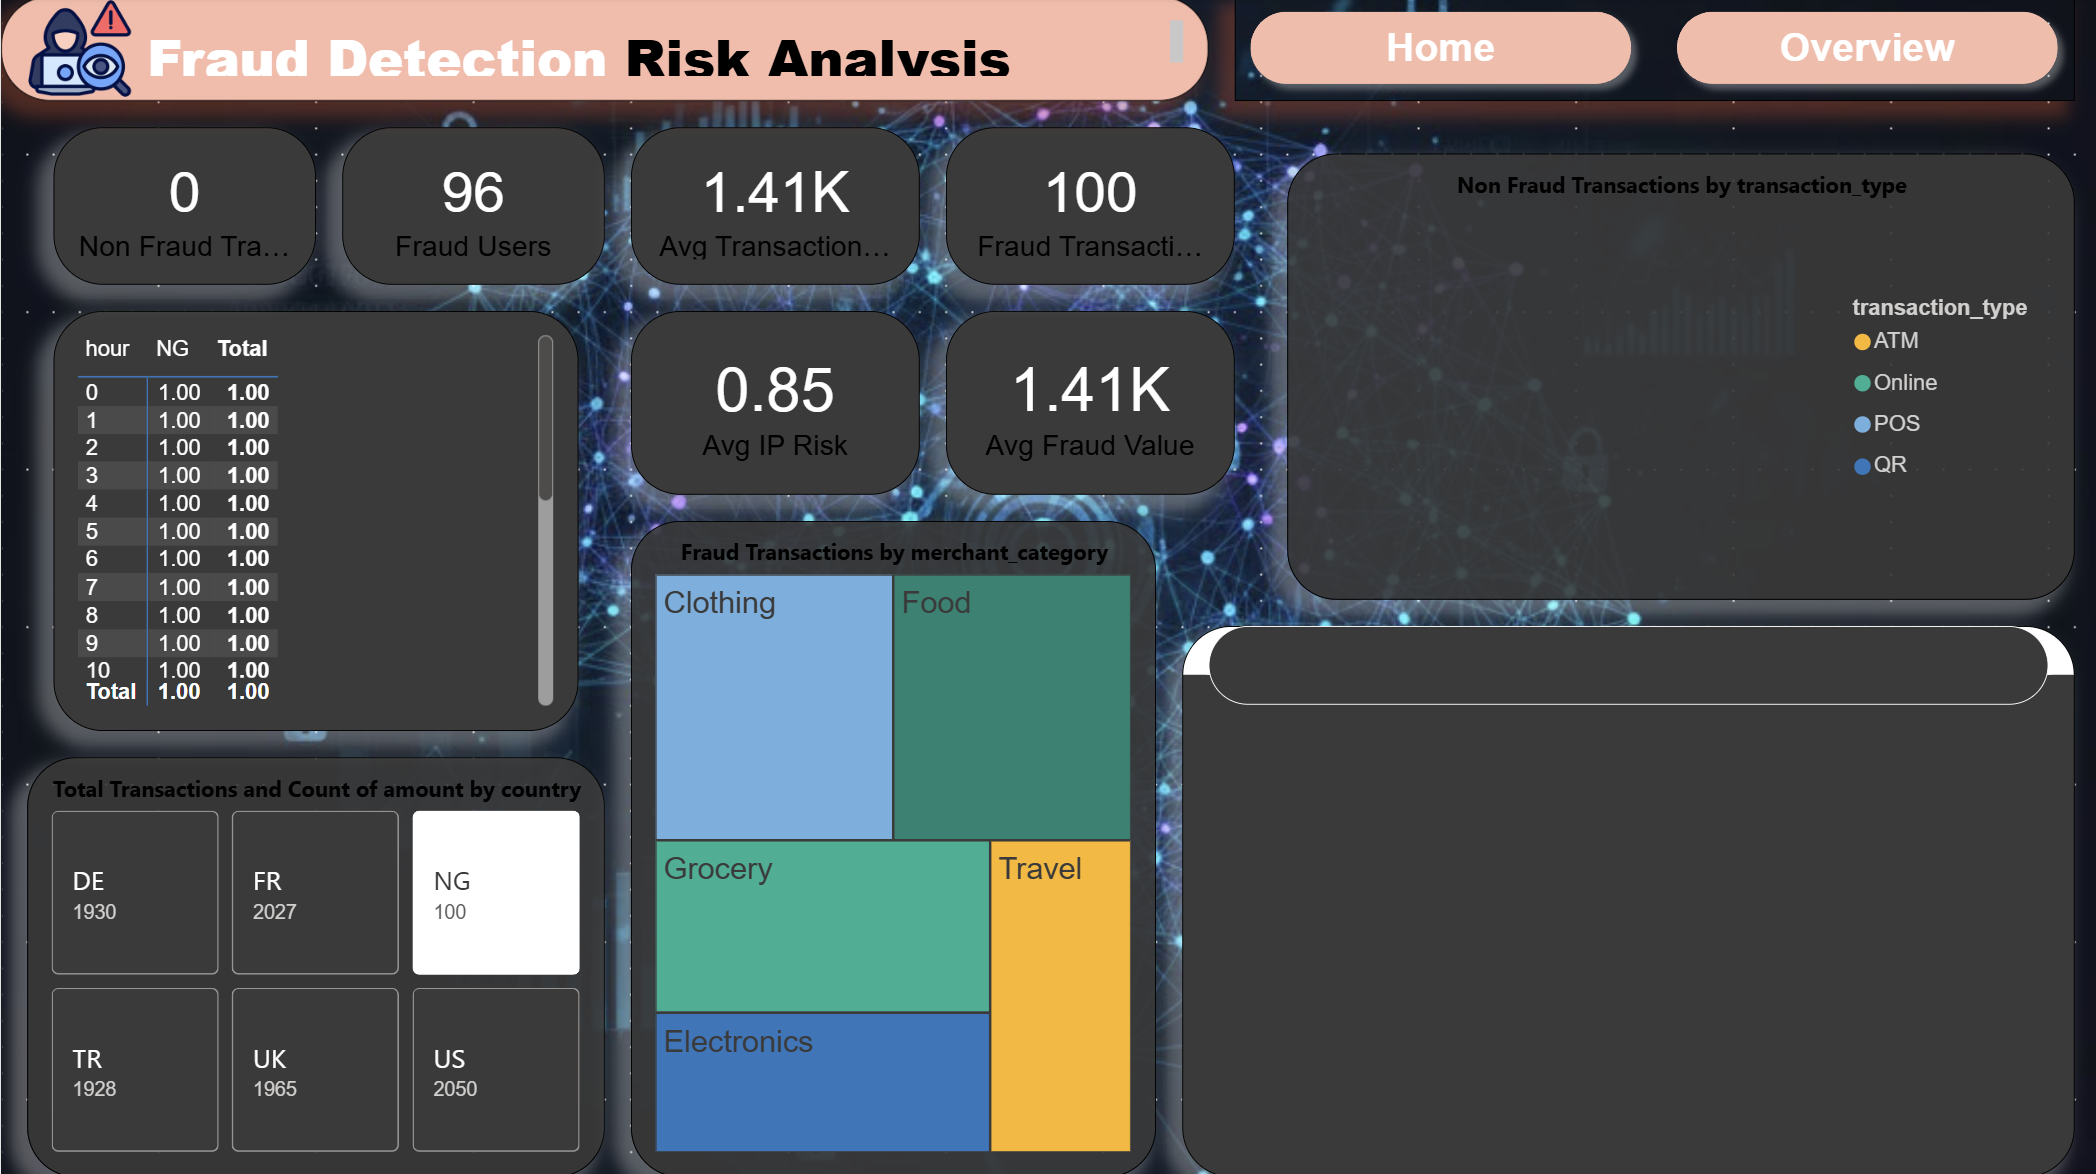

The dashboard page shown, as its layout file describes it:
{"tool":"powerbi","page":{"name":"Risk Analysis","canvas":[1280,720],"ordinal":2},"visuals":[{"type":"filledMap","fields":{"Category":["synthetic_fraud_dataset.country"]},"box":[720,384,544,336],"z":0},{"type":"card","fields":{"Values":["synthetic_fraud_dataset.Fraud Users"]},"box":[208,80,160,96],"z":1000},{"type":"card","fields":{"Values":["synthetic_fraud_dataset.Avg Fraud Value"]},"box":[576,192,176,112],"z":2000},{"type":"card","fields":{"Values":["synthetic_fraud_dataset.Fraud Transactions"]},"box":[576,80,176,96],"z":3000},{"type":"advancedSlicerVisual","fields":{"Label":["synthetic_fraud_dataset.Total Transactions"],"Values":["synthetic_fraud_dataset.country"]},"box":[16,464,352,256],"z":4000},{"type":"pivotTable","fields":{"Rows":["synthetic_fraud_dataset.hour"],"Columns":["synthetic_fraud_dataset.country"],"Values":["synthetic_fraud_dataset.Fraud %"]},"box":[32,192,320,256],"z":5000},{"type":"card","fields":{"Values":["synthetic_fraud_dataset.Avg Transaction Amount"]},"box":[384,80,176,96],"z":6000},{"type":"card","fields":{"Values":["synthetic_fraud_dataset.Avg IP Risk"]},"box":[384,192,176,112],"z":7000},{"type":"card","fields":{"Values":["synthetic_fraud_dataset.Non Fraud Transactions"]},"box":[32,80,160,96],"z":8000},{"type":"pieChart","fields":{"Category":["synthetic_fraud_dataset.transaction_type"],"Y":["synthetic_fraud_dataset.Non Fraud Transactions"]},"box":[784,96,480,272],"z":9000},{"type":"treemap","fields":{"Group":["synthetic_fraud_dataset.merchant_category"],"Values":["synthetic_fraud_dataset.Fraud Transactions"]},"box":[384,320,320,400],"z":10000},{"type":"textbox","box":[736,384,512,48],"z":11000},{"type":"pageNavigator","box":[752,0,512,64],"z":12000},{"type":"textbox","box":[0,0,736,64],"z":13000},{"type":"image","box":[16,0,64,64],"z":14000}]}

Visuals, with their boxes in screenshot pixels (x1, y1, x2, y2), scaled from the page's 1280x720 canvas onto the 2096x1174 screenshot:
filledMap - synthetic_fraud_dataset.country: crop(1179, 626, 2070, 1173)
card - synthetic_fraud_dataset.Fraud Users: crop(341, 130, 603, 287)
card - synthetic_fraud_dataset.Avg Fraud Value: crop(943, 313, 1231, 496)
card - synthetic_fraud_dataset.Fraud Transactions: crop(943, 130, 1231, 287)
advancedSlicerVisual - synthetic_fraud_dataset.Total Transactions x synthetic_fraud_dataset.country: crop(26, 757, 603, 1173)
pivotTable - synthetic_fraud_dataset.hour x synthetic_fraud_dataset.country: crop(52, 313, 576, 730)
card - synthetic_fraud_dataset.Avg Transaction Amount: crop(629, 130, 917, 287)
card - synthetic_fraud_dataset.Avg IP Risk: crop(629, 313, 917, 496)
card - synthetic_fraud_dataset.Non Fraud Transactions: crop(52, 130, 314, 287)
pieChart - synthetic_fraud_dataset.transaction_type x synthetic_fraud_dataset.Non Fraud Transactions: crop(1284, 157, 2070, 600)
treemap - synthetic_fraud_dataset.merchant_category x synthetic_fraud_dataset.Fraud Transactions: crop(629, 522, 1153, 1173)
textbox: crop(1205, 626, 2044, 704)
pageNavigator: crop(1231, 0, 2070, 104)
textbox: crop(0, 0, 1205, 104)
image: crop(26, 0, 131, 104)
